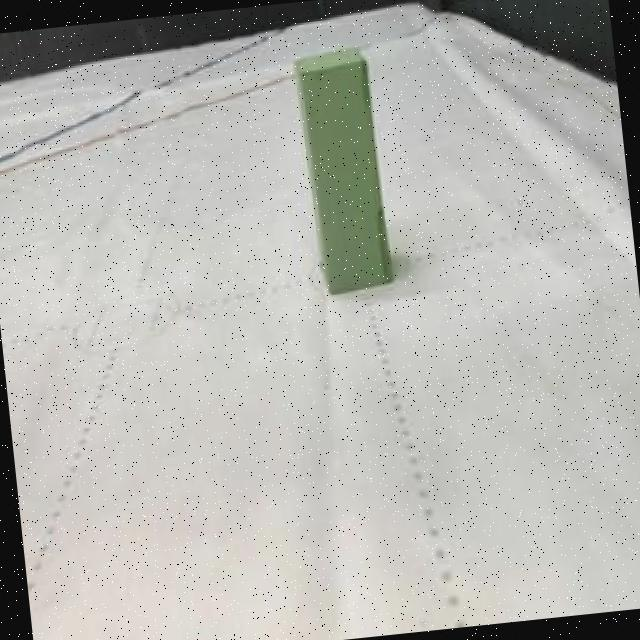greenbox: (291, 44, 390, 296)
